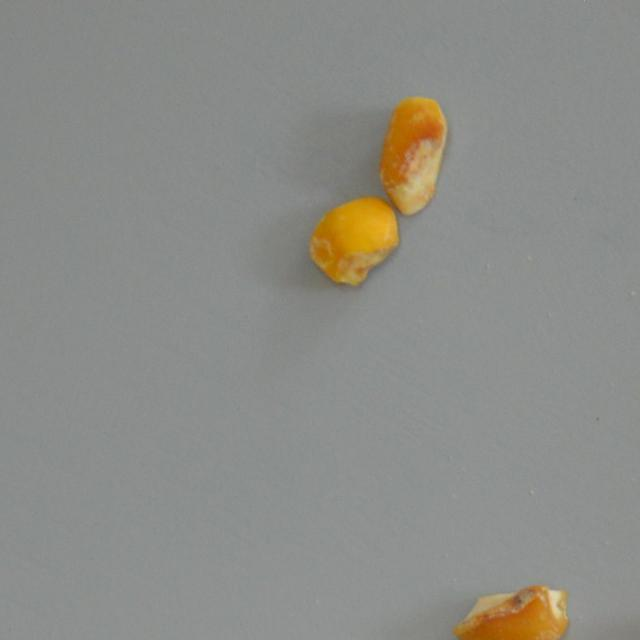dañado: (378, 96, 446, 217), (454, 583, 570, 640)
pelicula: (306, 195, 402, 287)
